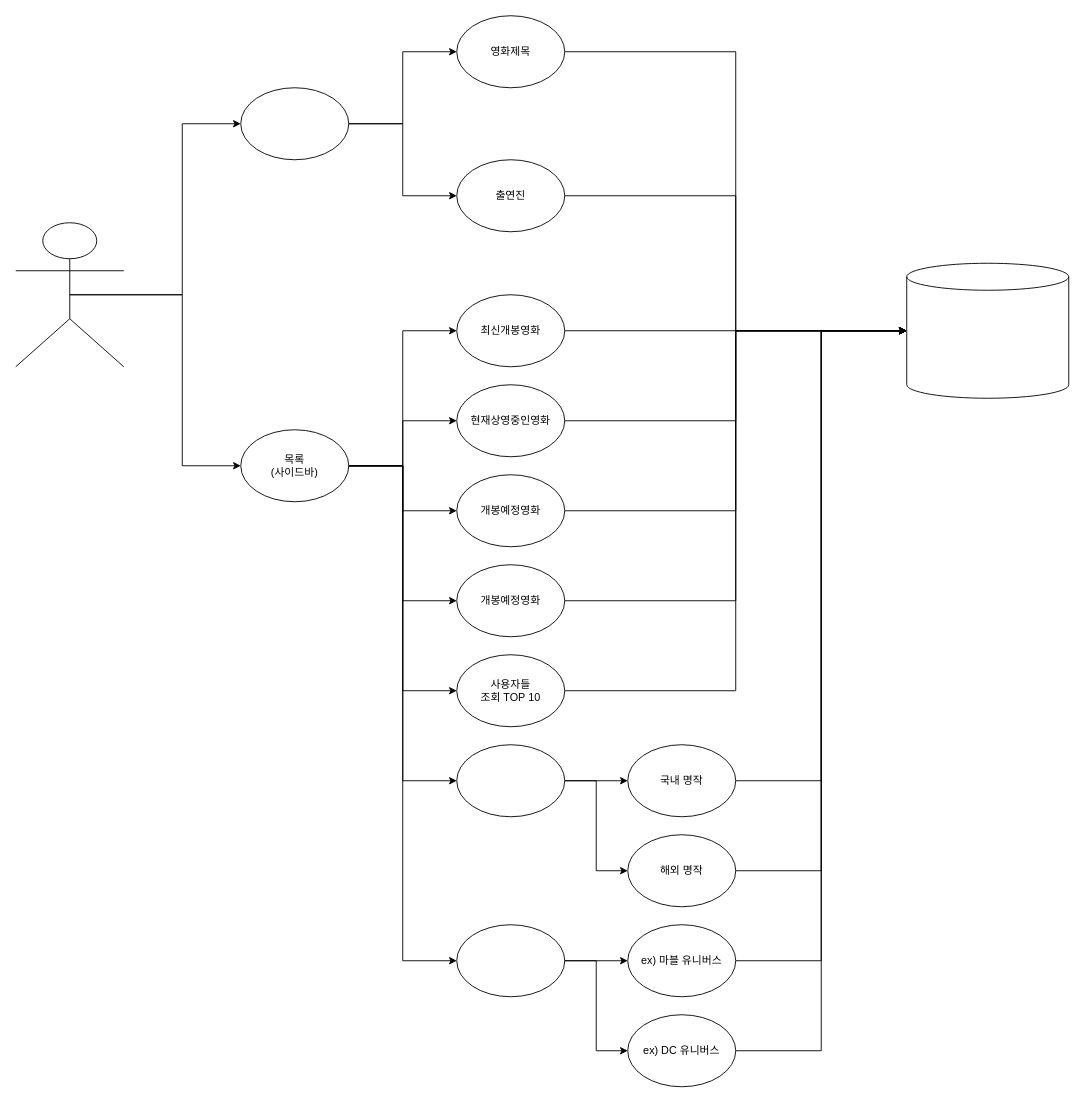
This 1085x1103 diagram has some shape labels left out. Here are the shapes that lost their labels. From the top down, the centre of each, then its label:
(294,123): 검색
(69,294): User
(510,780): 명작
(510,960): 시리즈물
